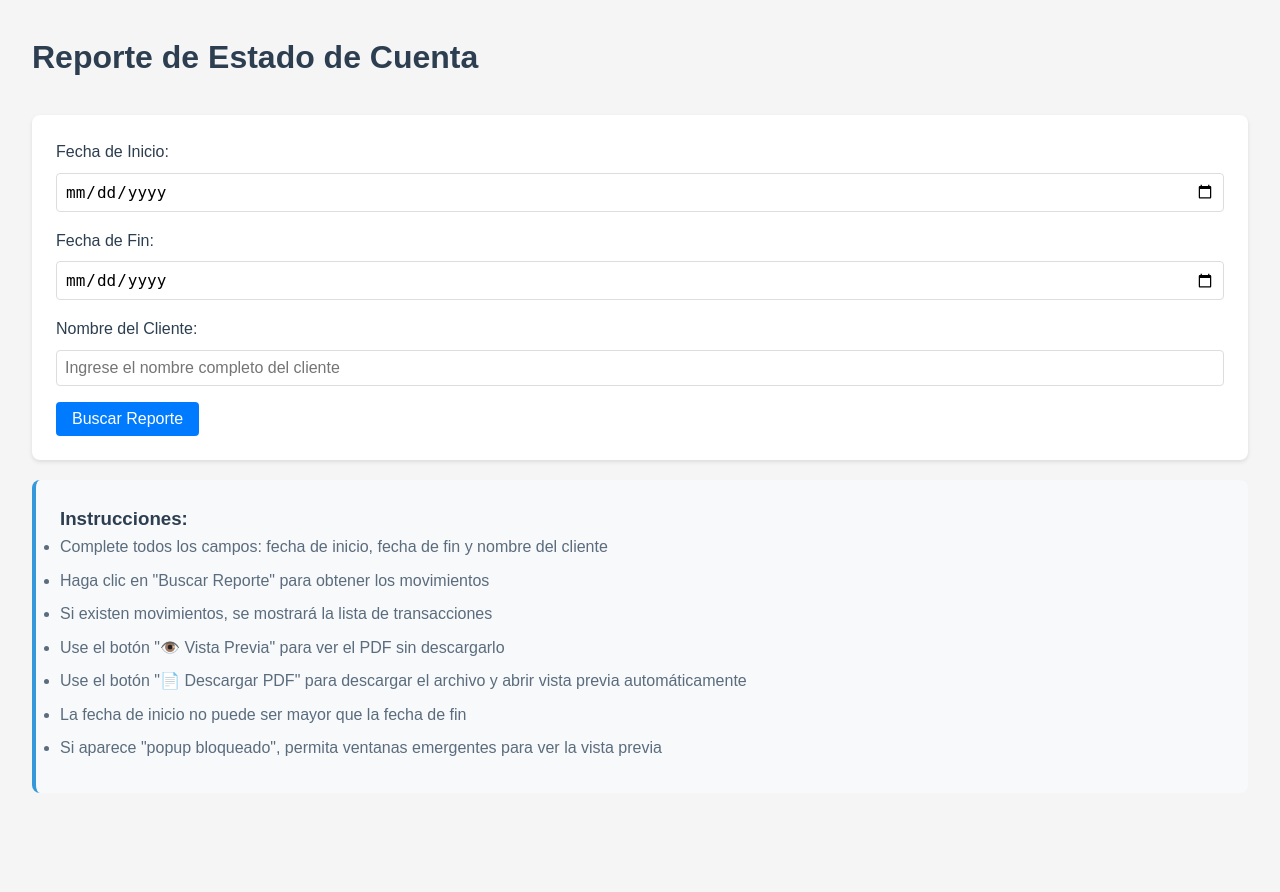
Scenario: TransactionReport › should fetch report data successfully and show results
The image size is (1280, 892).
In the date field labelled "Fecha de Inicio:": (640, 192) [56, 173, 1224, 212], type "2025-09-01"
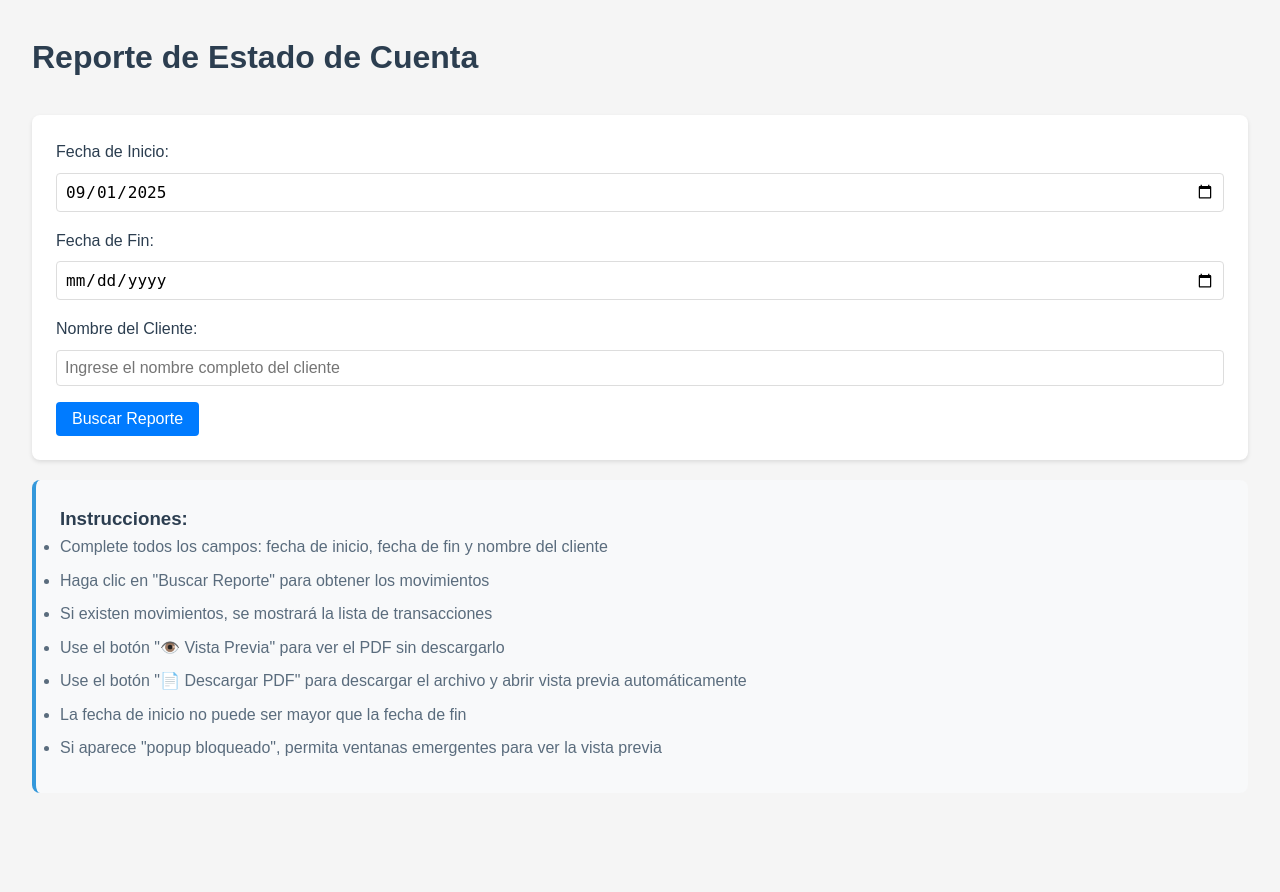
In the date field labelled "Fecha de Fin:": (640, 281) [56, 261, 1224, 300], type "2025-09-29"
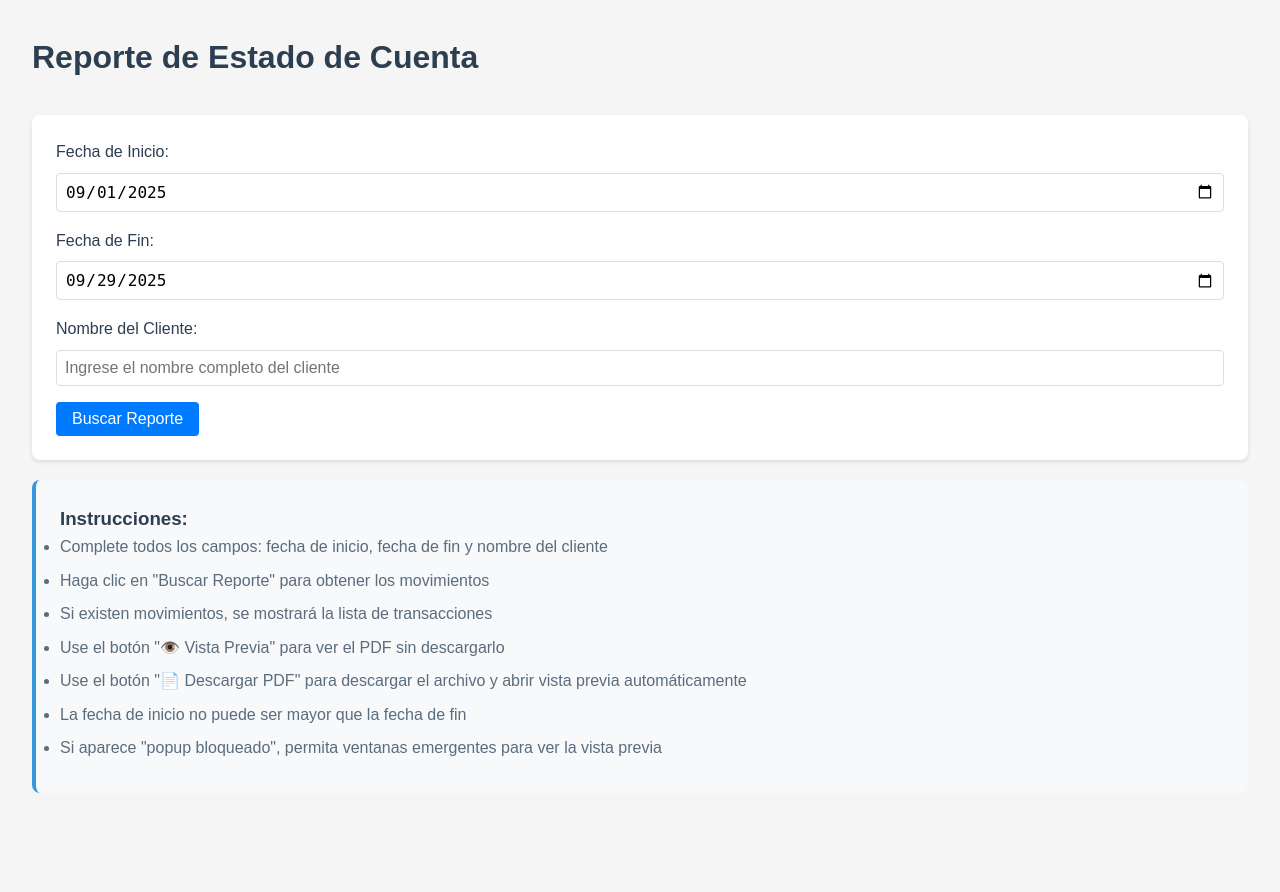
In the field labelled "Nombre del Cliente:": (640, 368) [56, 350, 1224, 386], type "Jose Lema"
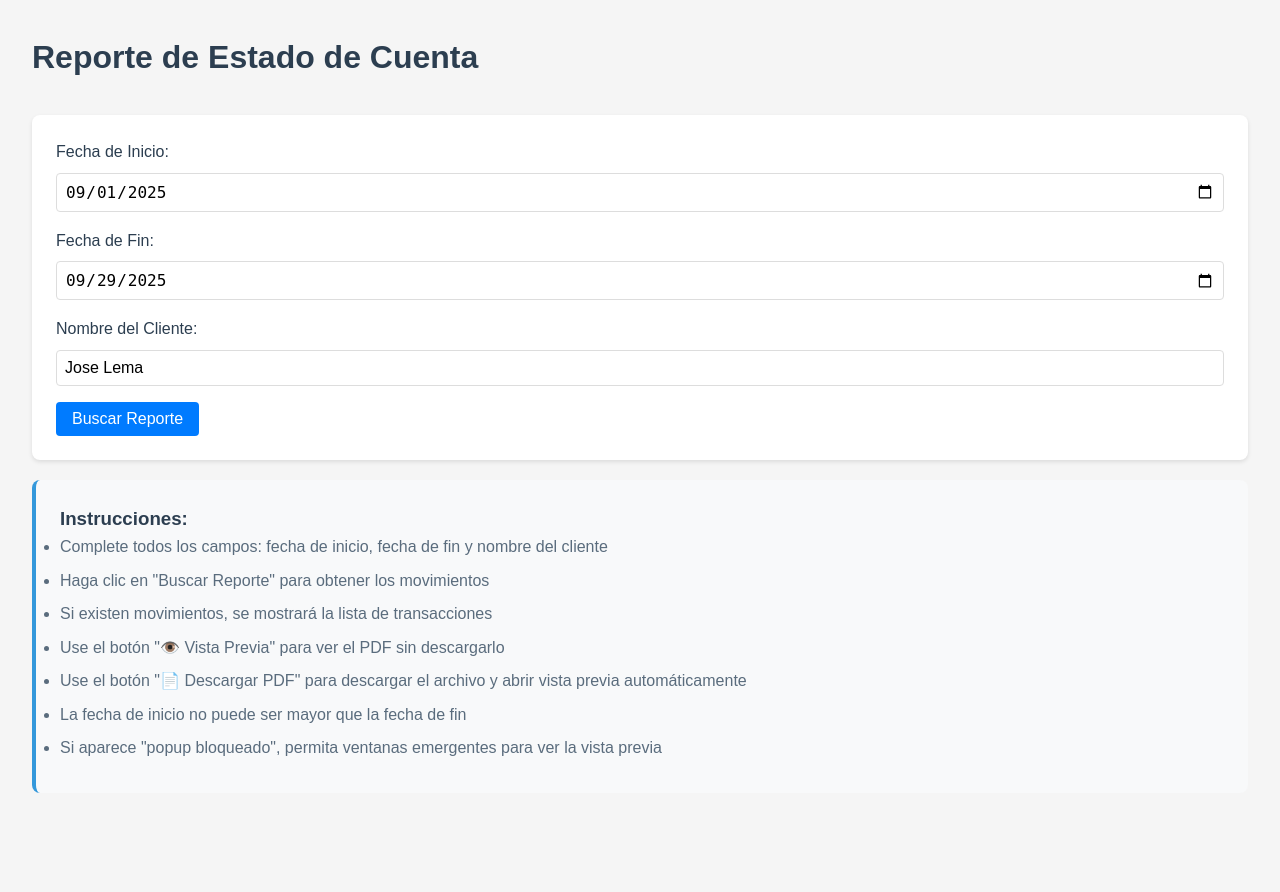
Click the button "Buscar Reporte": (128, 419) [56, 402, 199, 436]
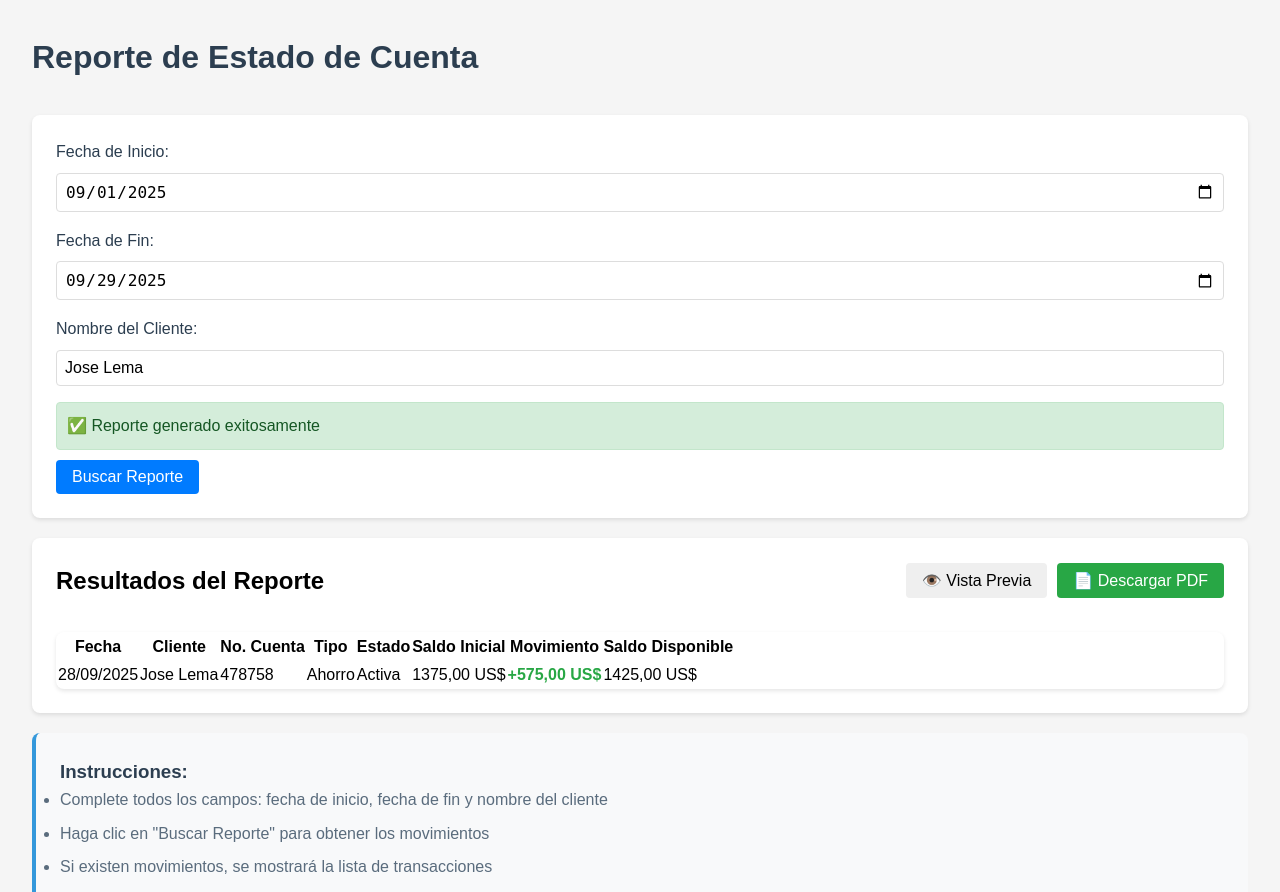
Expected: the heading "Resultados del Reporte" is shown, [56, 562, 324, 600]
Expected: the text "Jose Lema" is shown, [140, 662, 218, 687]
Expected: the text "478758" is shown, [220, 662, 305, 687]
